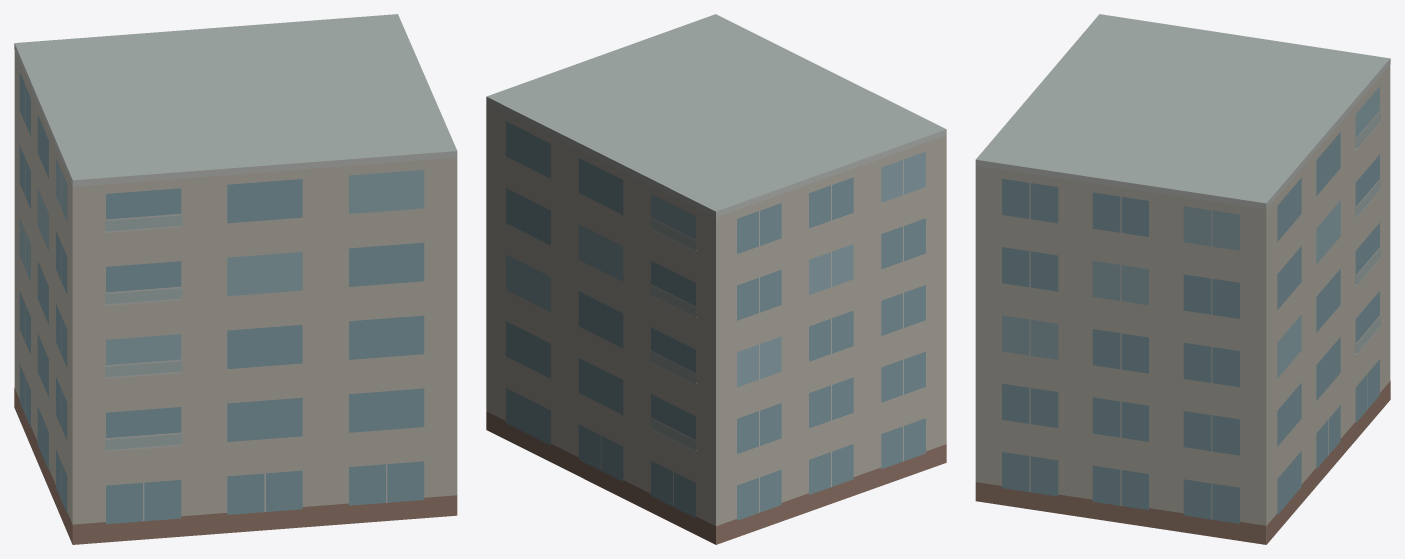
The model's file is survey-upis-32851868.glb.
3 views of the same model, side by side, from view 1: azimuth 30°, elevation 25°; view 2: azimuth 150°, elevation 25°; view 3: azimuth 270°, elevation 25° (orthographic). The views are drawn at different scales.
Parts seen in each view (by area): view 1: survey-upis-32851868.tmp; view 2: survey-upis-32851868.tmp; view 3: survey-upis-32851868.tmp.
Boxes of the visible parts, x1=… form: survey-upis-32851868.tmp: x1=14, y1=14, x2=457, y2=544; survey-upis-32851868.tmp: x1=486, y1=14, x2=946, y2=544; survey-upis-32851868.tmp: x1=975, y1=14, x2=1390, y2=544.
Bounding box in the file's own units: 16.31 × 13.7 × 15.09.
